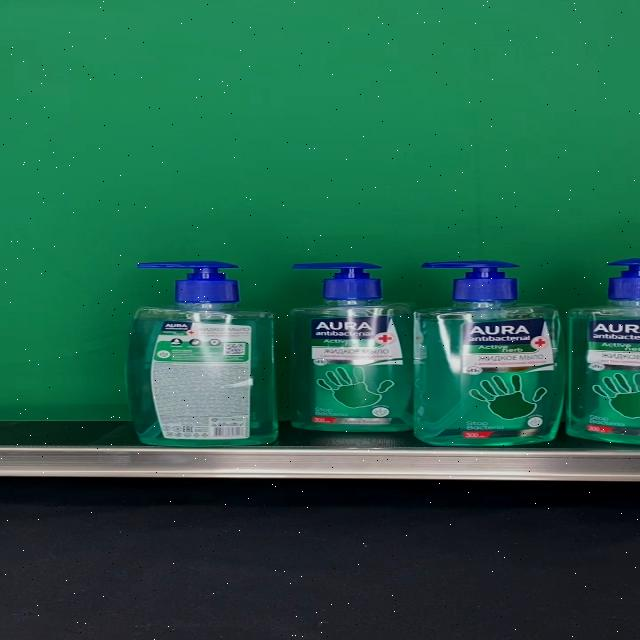Bottle: (414, 259, 566, 446), (129, 260, 276, 447), (290, 262, 414, 432)
Cap: (137, 260, 241, 302), (421, 260, 523, 302), (290, 261, 385, 299)
